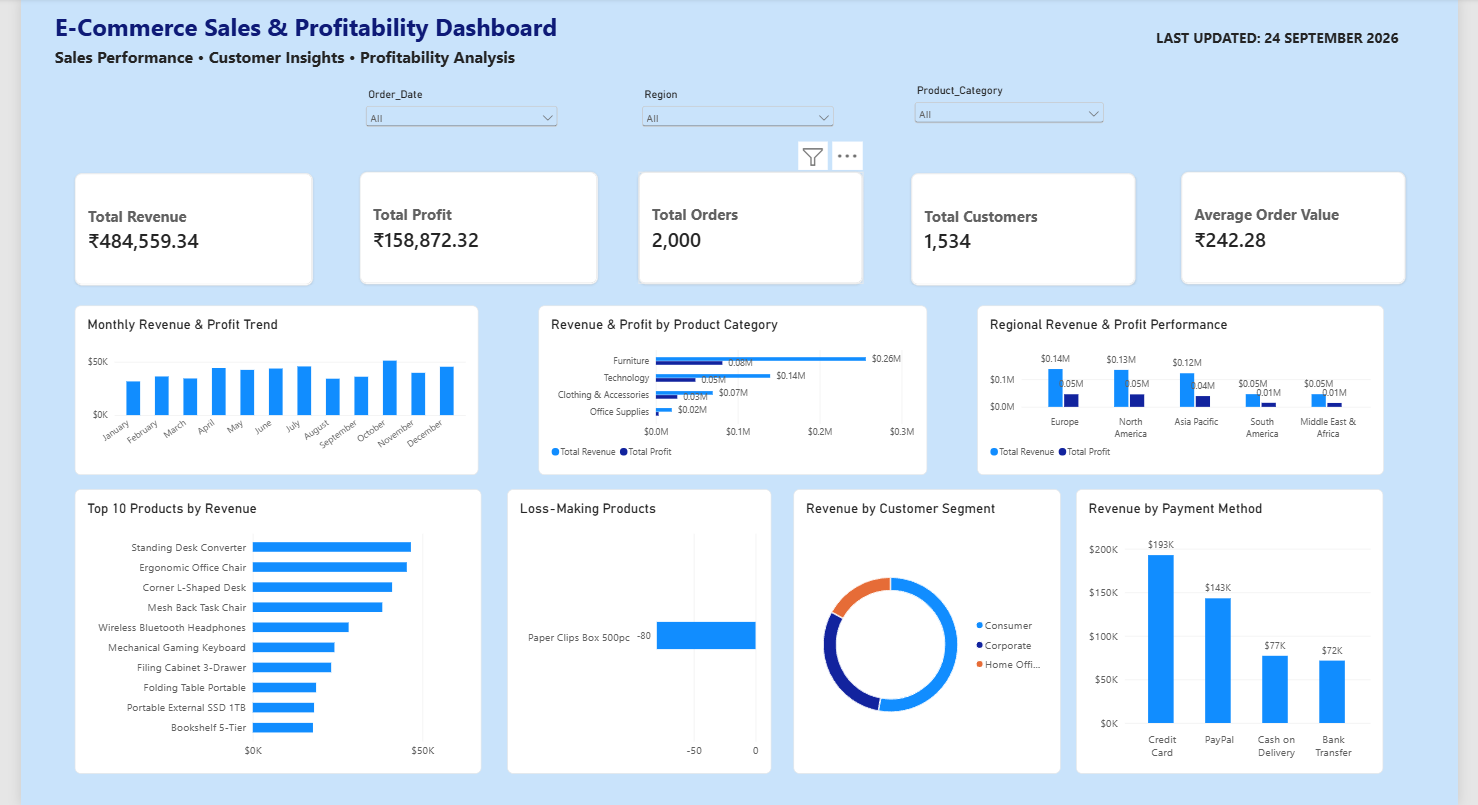

This screenshot's page, from the dashboard's own definition file:
{"tool":"powerbi","page":{"name":"Page 1","canvas":[1920,1080],"ordinal":0},"visuals":[{"type":"cardVisual","fields":{"Data":["ECommerce_Sales_Data.Revenue Display"]},"box":[72.4,233.4,318.5,150.2],"z":0},{"type":"cardVisual","fields":{"Data":["ECommerce_Sales_Data.Profit Display"]},"box":[452.4,231.6,318.5,150.2],"z":1000},{"type":"cardVisual","fields":{"Data":["ECommerce_Sales_Data.Orders Display"]},"box":[825.2,231.6,300,150],"z":2000},{"type":"cardVisual","fields":{"Data":["ECommerce_Sales_Data.Customers Display"]},"box":[1188.9,233.4,300,150],"z":3000},{"type":"cardVisual","fields":{"Data":["ECommerce_Sales_Data.AOV Display"]},"box":[1549.1,231.6,300,150],"z":4000},{"type":"lineClusteredColumnComboChart","title":"Monthly Revenue & Profit Trend","fields":{"Y":["ECommerce_Sales_Data.Total Revenue"],"Category":["ECommerce_Sales_Data.Order_Date.Variation.Date Hierarchy.Month"]},"box":[72.4,410.8,539.3,226.2],"z":5000},{"type":"clusteredBarChart","title":"Revenue & Profit by Product Category","fields":{"Category":["ECommerce_Sales_Data.Product_Category"],"Y":["ECommerce_Sales_Data.Total Revenue","ECommerce_Sales_Data.Total Profit"]},"box":[691.3,410.8,519.4,226.2],"z":6000},{"type":"clusteredBarChart","title":"Top 10 Products by Revenue","fields":{"Category":["ECommerce_Sales_Data.Product_Name"],"Y":["ECommerce_Sales_Data.Total Revenue"]},"box":[72.4,656.9,542.9,380],"z":7000},{"type":"clusteredColumnChart","title":"Regional Revenue & Profit Performance","fields":{"Category":["ECommerce_Sales_Data.Region"],"Y":["ECommerce_Sales_Data.Total Revenue","ECommerce_Sales_Data.Total Profit"]},"box":[1277.6,410.8,542.9,226.2],"z":7001},{"type":"donutChart","title":"Revenue by Customer Segment","fields":{"Category":["ECommerce_Sales_Data.Customer_Segment"],"Y":["ECommerce_Sales_Data.Total Revenue"]},"box":[1031.5,656.9,356.5,380],"z":7002},{"type":"clusteredBarChart","title":"Loss-Making Products","fields":{"Category":["ECommerce_Sales_Data.Product_Name"],"Y":["ECommerce_Sales_Data.Total Profit"]},"box":[649.7,656.9,352.9,380],"z":7003},{"type":"clusteredColumnChart","title":"Revenue by Payment Method","fields":{"Category":["ECommerce_Sales_Data.Payment_Method"],"Y":["ECommerce_Sales_Data.Total Revenue"]},"box":[1409.7,656.9,410.8,380],"z":7004},{"type":"textbox","box":[45.3,17.4,914,45.3],"z":7005},{"type":"textbox","box":[45.3,62.8,812.8,52.3],"z":7006},{"type":"slicer","fields":{"Values":["ECommerce_Sales_Data.Order_Date"]},"box":[456,119.4,266,76],"z":7007},{"type":"slicer","fields":{"Values":["ECommerce_Sales_Data.Region"]},"box":[825.2,119.4,266,76],"z":7008},{"type":"slicer","fields":{"Values":["ECommerce_Sales_Data.Product_Category"]},"box":[1188.9,115.8,262.4,79.6],"z":7009},{"type":"textbox","box":[1516.5,39.8,356.5,48.9],"z":7010}]}

Visuals, with their boxes on the page's 1920x1080 design canvas (x1, y1, x2, y2). These are canvas units, not pixel positions in the 1478x805 screenshot, which may show the page scaled, cropped or inside an application window:
cardVisual - ECommerce_Sales_Data.Revenue Display: (x1=72, y1=233, x2=391, y2=384)
cardVisual - ECommerce_Sales_Data.Profit Display: (x1=452, y1=232, x2=771, y2=382)
cardVisual - ECommerce_Sales_Data.Orders Display: (x1=825, y1=232, x2=1125, y2=382)
cardVisual - ECommerce_Sales_Data.Customers Display: (x1=1189, y1=233, x2=1489, y2=383)
cardVisual - ECommerce_Sales_Data.AOV Display: (x1=1549, y1=232, x2=1849, y2=382)
"Monthly Revenue & Profit Trend" lineClusteredColumnComboChart: (x1=72, y1=411, x2=612, y2=637)
"Revenue & Profit by Product Category" clusteredBarChart: (x1=691, y1=411, x2=1211, y2=637)
"Top 10 Products by Revenue" clusteredBarChart: (x1=72, y1=657, x2=615, y2=1037)
"Regional Revenue & Profit Performance" clusteredColumnChart: (x1=1278, y1=411, x2=1820, y2=637)
"Revenue by Customer Segment" donutChart: (x1=1032, y1=657, x2=1388, y2=1037)
"Loss-Making Products" clusteredBarChart: (x1=650, y1=657, x2=1003, y2=1037)
"Revenue by Payment Method" clusteredColumnChart: (x1=1410, y1=657, x2=1820, y2=1037)
textbox: (x1=45, y1=17, x2=959, y2=63)
textbox: (x1=45, y1=63, x2=858, y2=115)
slicer - ECommerce_Sales_Data.Order_Date: (x1=456, y1=119, x2=722, y2=195)
slicer - ECommerce_Sales_Data.Region: (x1=825, y1=119, x2=1091, y2=195)
slicer - ECommerce_Sales_Data.Product_Category: (x1=1189, y1=116, x2=1451, y2=195)
textbox: (x1=1516, y1=40, x2=1873, y2=89)
